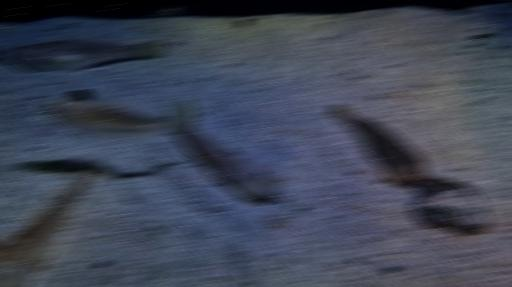Fish: (0, 162, 98, 286), (331, 104, 428, 186), (177, 127, 282, 199), (43, 91, 194, 141), (2, 40, 163, 72)
